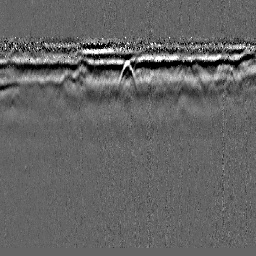cavity: (116, 59, 139, 93)
